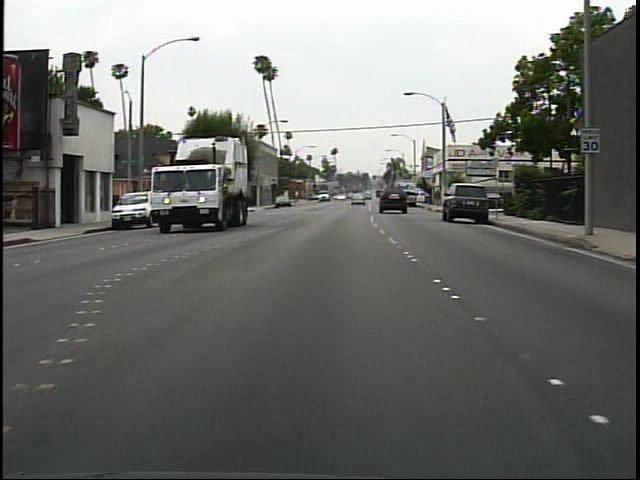person: (429, 183, 446, 212)
